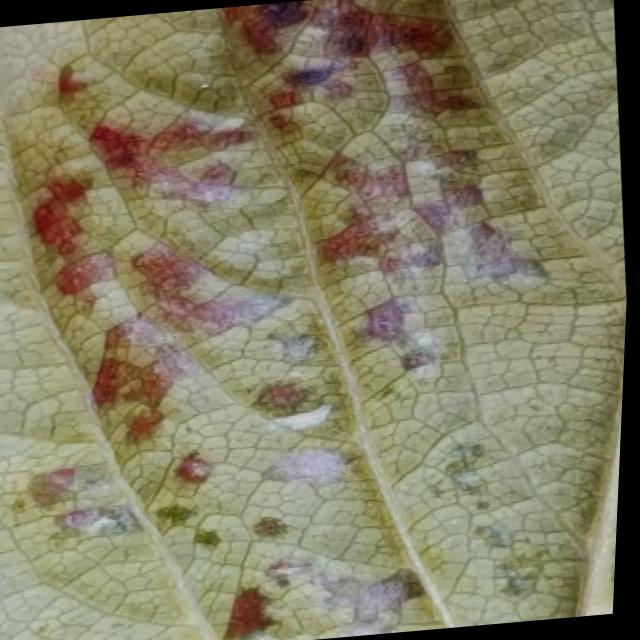Angular Leafspot: (0, 0, 629, 640)
